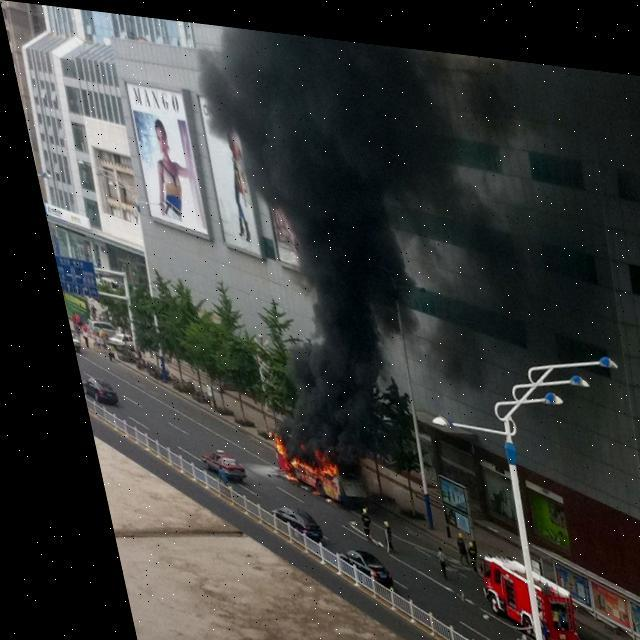Fire: (250, 419, 335, 506)
